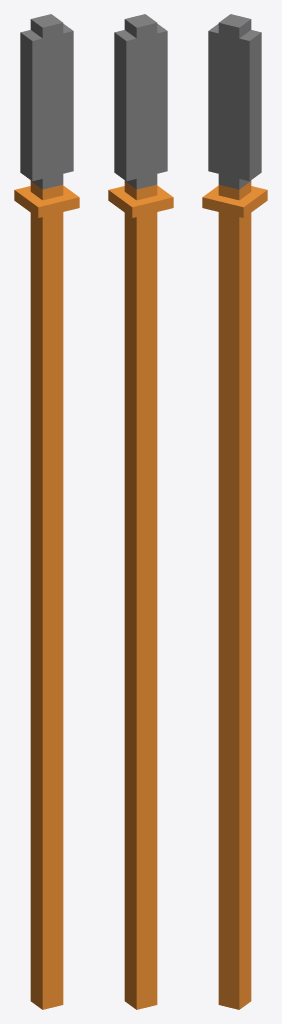
File: tombak.fbx
The picture shows the model from 3 angles, left to right: view 1: azimuth 30°, elevation 25°; view 2: azimuth 210°, elevation 25°; view 3: azimuth 330°, elevation 25°; orthographic projection.
Parts seen in each view (by area): view 1: Untitled; view 2: Untitled; view 3: Untitled.
Part boxes in pixels (x1,y1,x2,y2): Untitled: (14,14,79,1009); Untitled: (108,14,173,1009); Untitled: (202,14,267,1009).
Size of the model in its own units: 40 by 910 by 40.
Materials: 1 (1 with a texture image).
